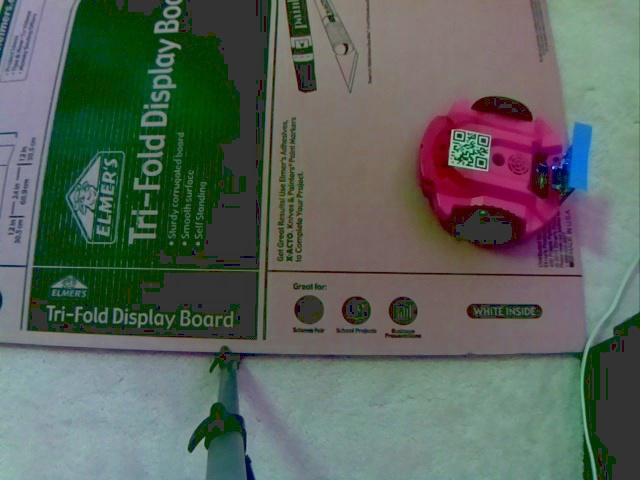board: (538, 119, 596, 201)
chassis: (413, 95, 594, 249)
